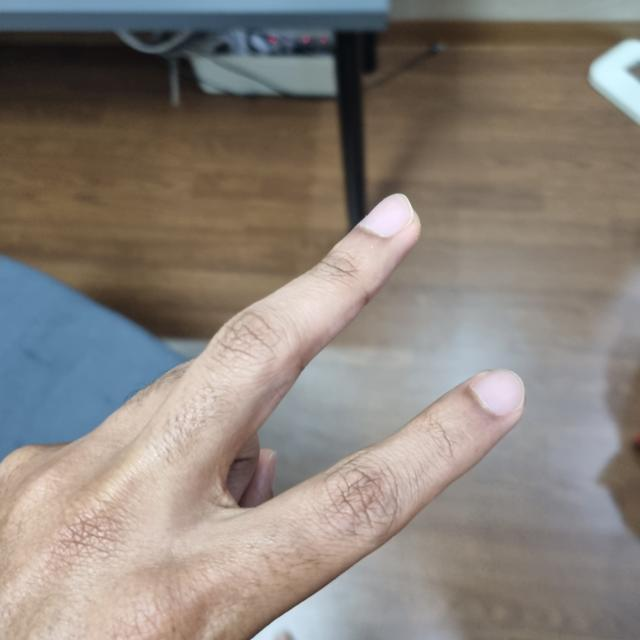Scissors: (0, 203, 517, 638)
